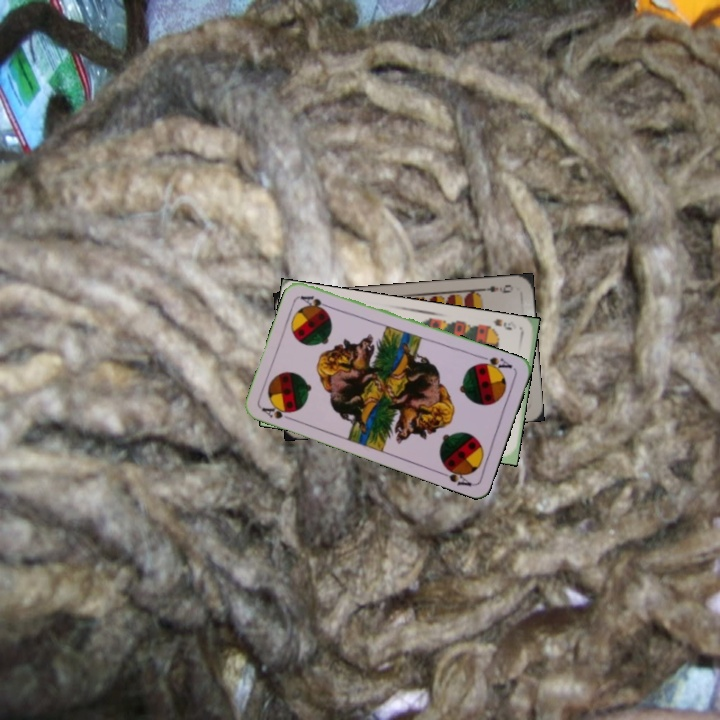E9: (477, 280, 516, 295)
S9: (481, 315, 514, 335)
SA: (474, 351, 515, 375), (257, 400, 298, 424)
